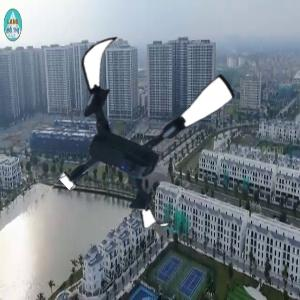drone: (47, 32, 239, 224)
